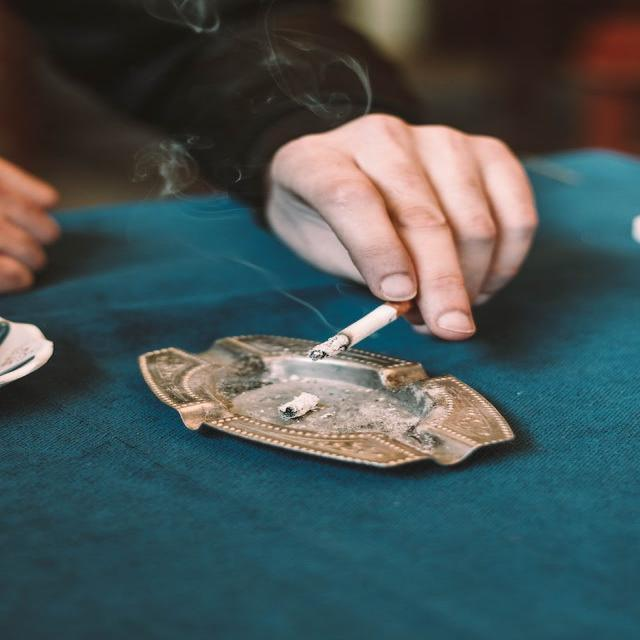rokok: (302, 292, 414, 363)
